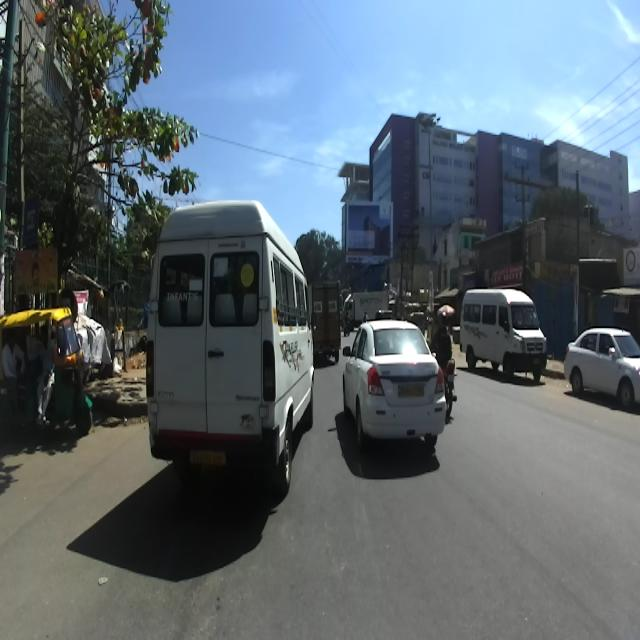auto ahead at: (0, 312, 93, 444)
bus ahead at: (146, 193, 315, 492)
car ahead at: (337, 317, 450, 448)
